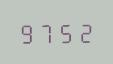five: (56, 19, 74, 43)
nine: (18, 20, 36, 44)
seven: (37, 20, 55, 44)
two: (75, 19, 93, 43)
